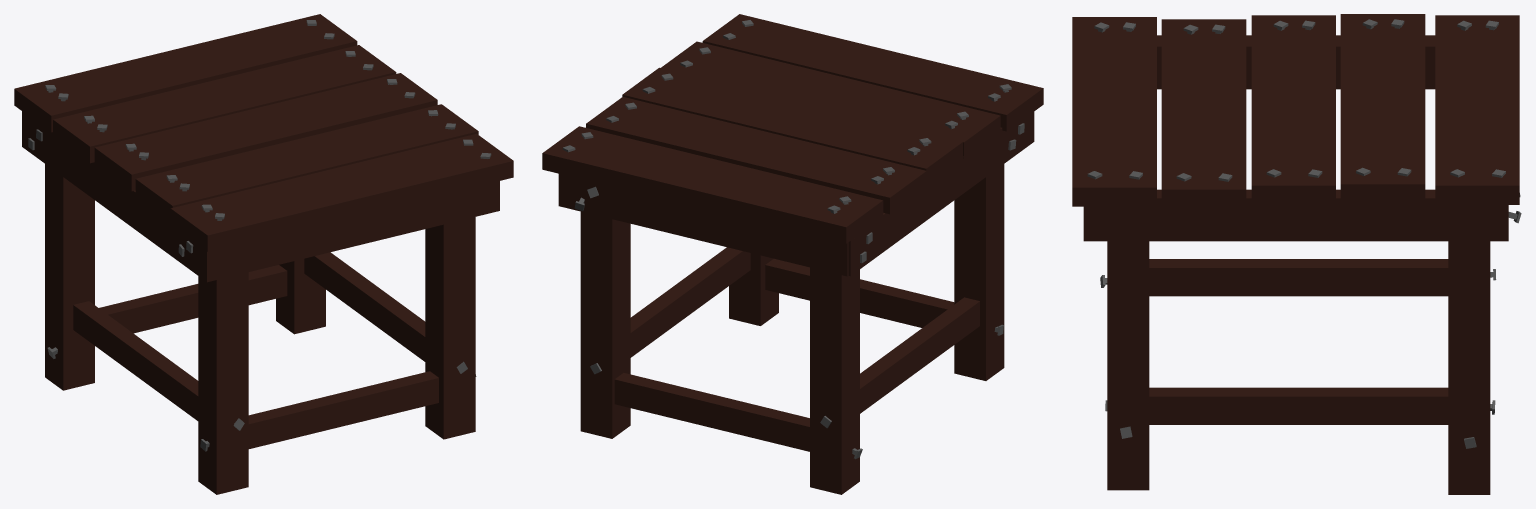
The model's file is table.fbx.
3 renders of one model, left to right at view 1: azimuth 30°, elevation 25°; view 2: azimuth 150°, elevation 25°; view 3: azimuth 270°, elevation 25°, orthographic. The views are drawn at different scales.
Parts seen in each view (by area): view 1: default; view 2: default; view 3: default.
Boxes of the visible parts, bbox=[...] form: default: bbox=[14, 14, 513, 494]; default: bbox=[542, 14, 1043, 494]; default: bbox=[1072, 14, 1521, 494].
Size of the model in its own units: 0.7786 by 0.692 by 0.8559.
